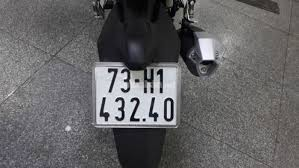Bien-so: (96, 67, 177, 127)
